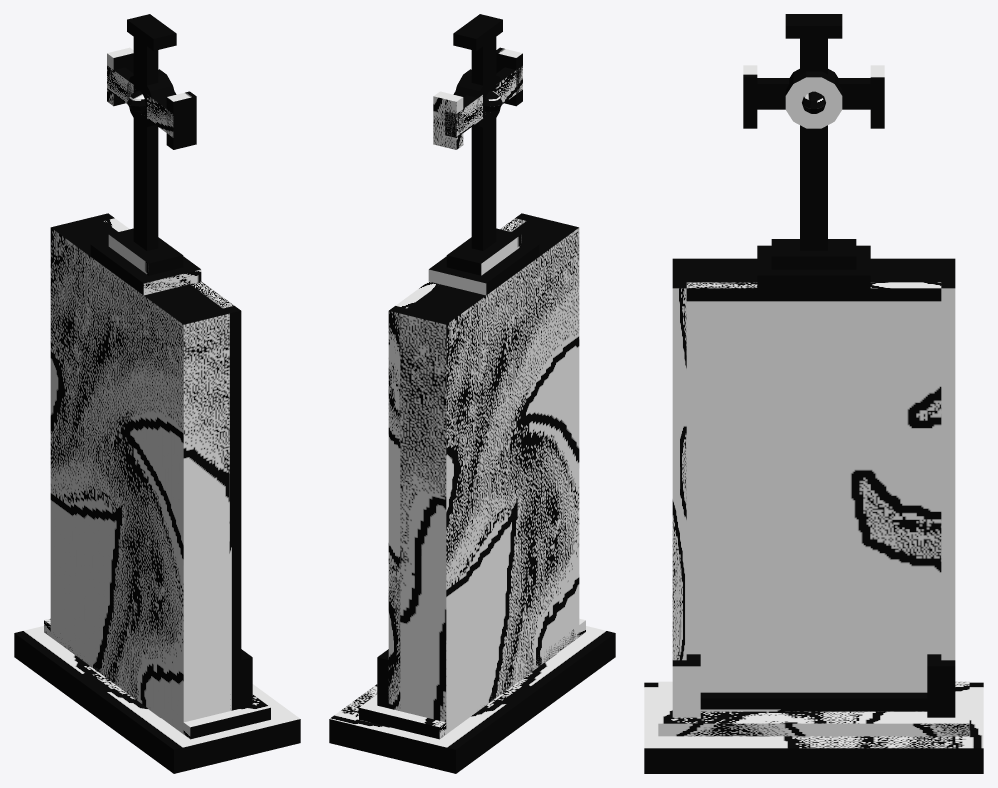
The model's file is gravestone.obj.
The picture shows the model from 3 angles, left to right: view 1: azimuth 30°, elevation 25°; view 2: azimuth 150°, elevation 25°; view 3: azimuth 270°, elevation 25°; orthographic projection. The views are drawn at different scales.
Parts seen in each view (by area): view 1: cuboid, cylinder; view 2: cuboid, cylinder; view 3: cuboid, cylinder.
Part boxes in pixels (x1,y1,x2,y2): cuboid: [14, 14, 300, 773]; cylinder: [127, 69, 175, 127]; cuboid: [329, 14, 615, 773]; cylinder: [454, 69, 500, 127]; cuboid: [644, 14, 983, 773]; cylinder: [785, 69, 842, 128].
Size of the model in its own units: 0.1719 by 0.875 by 0.375.
Materials: 1 (1 with a texture image).
